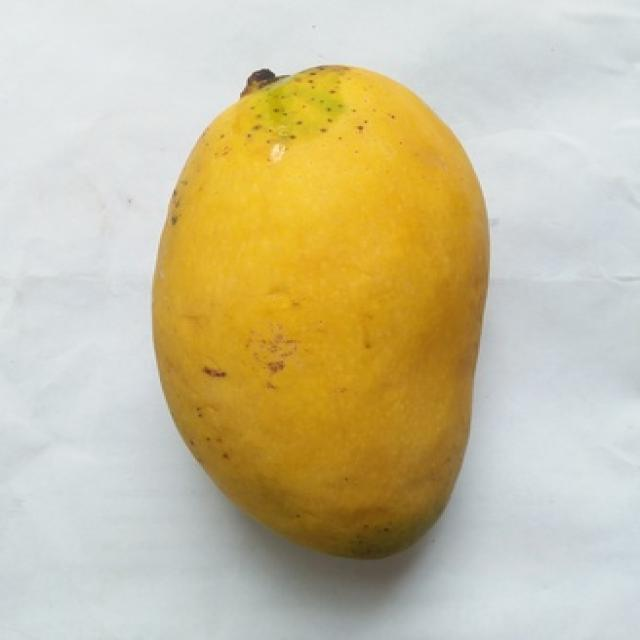Mango: (152, 65, 486, 555)
